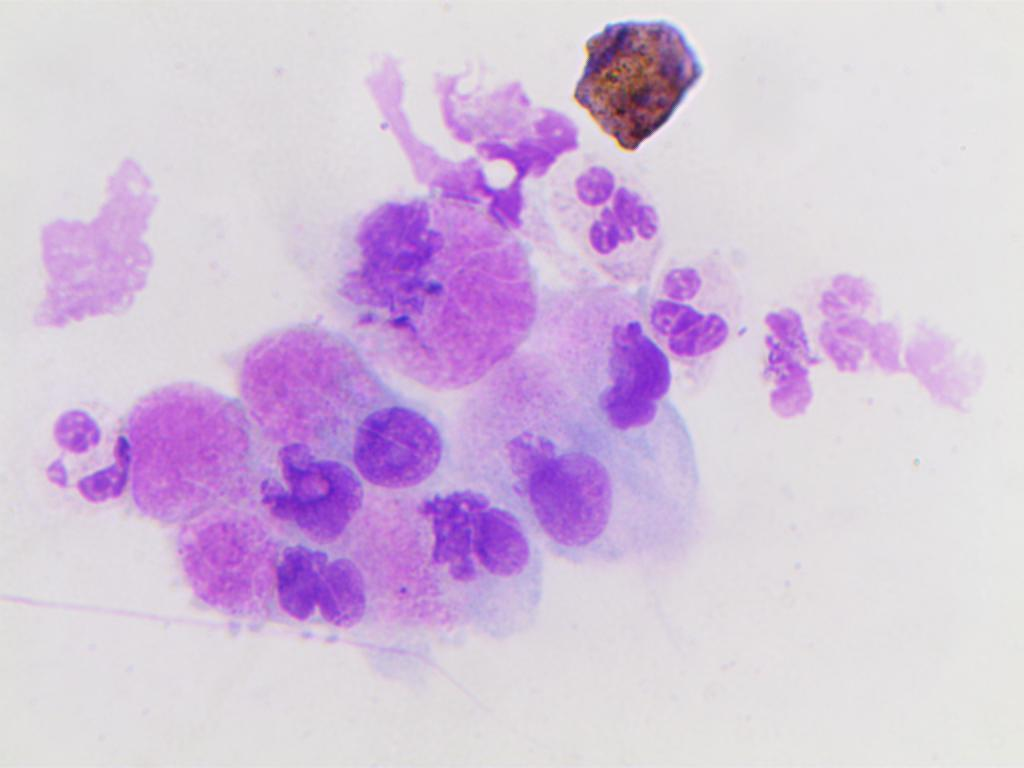artifact: (414, 64, 585, 238), (816, 264, 1005, 419), (552, 5, 723, 156), (18, 150, 159, 331), (759, 301, 830, 421)
epithelial: (336, 191, 479, 341), (496, 434, 650, 551), (575, 316, 686, 438), (253, 445, 376, 543), (419, 484, 531, 590), (265, 541, 374, 632), (348, 399, 440, 488)
neutrophil: (550, 154, 667, 274), (43, 404, 143, 516), (647, 248, 746, 358)
